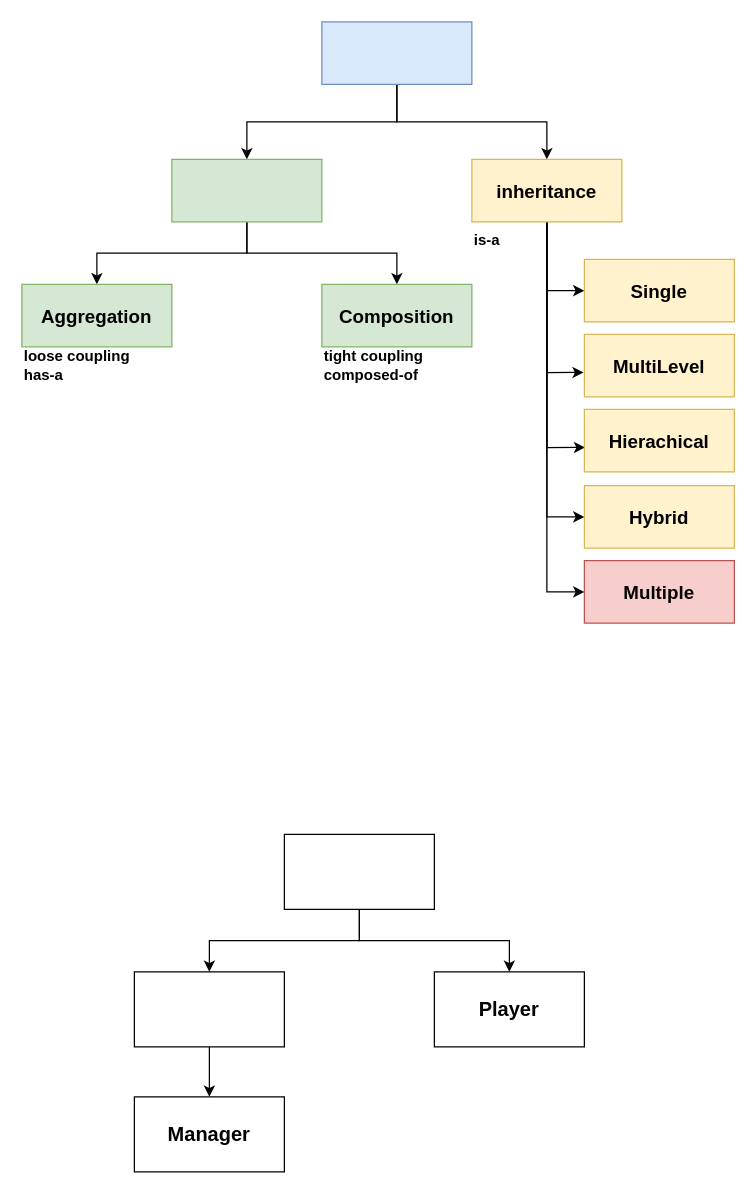
Image size: 756x1194. Some labels were removed from this diagram. The shapes that lost their labels are listed below. From the top down, each one's box as (x1, y1, x2, y2) in pixels, then its label:
(321, 21, 472, 84): Reusability
(171, 158, 322, 222): Association
(283, 833, 434, 909): Person
(133, 971, 284, 1047): Employee
